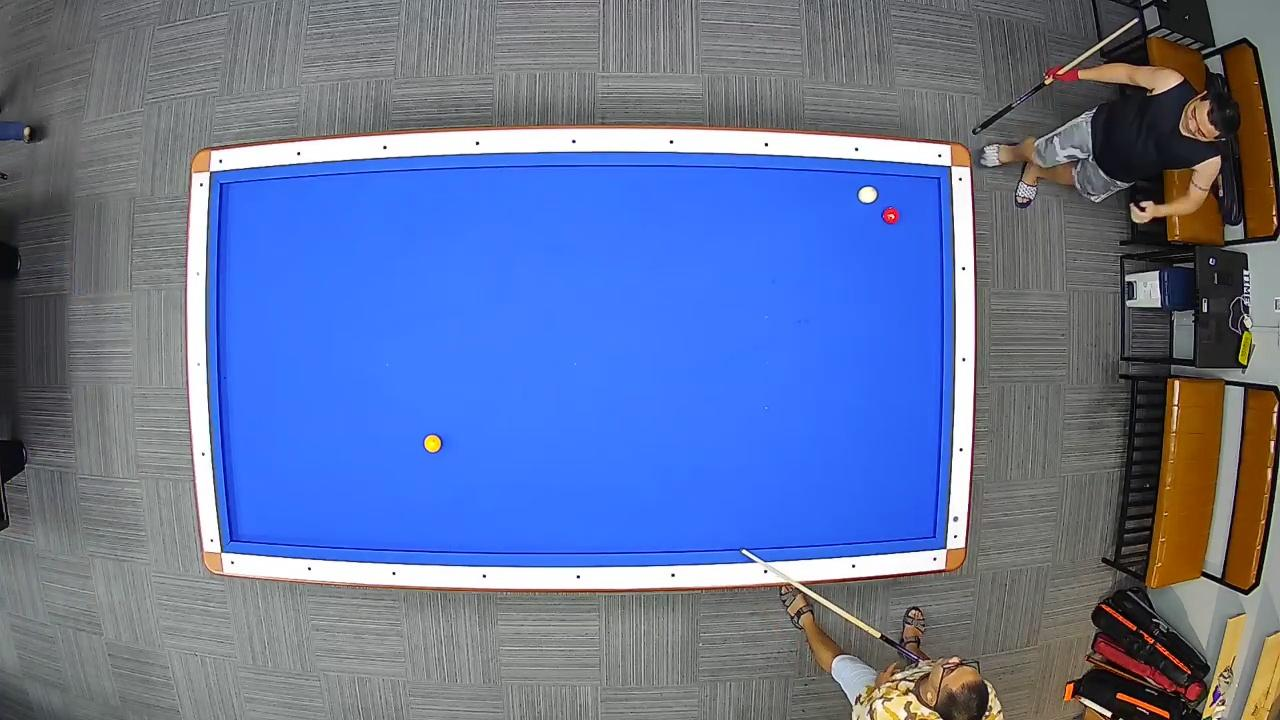Red: (881, 204, 901, 226)
White: (856, 182, 878, 206)
Yellow: (422, 431, 442, 455)
